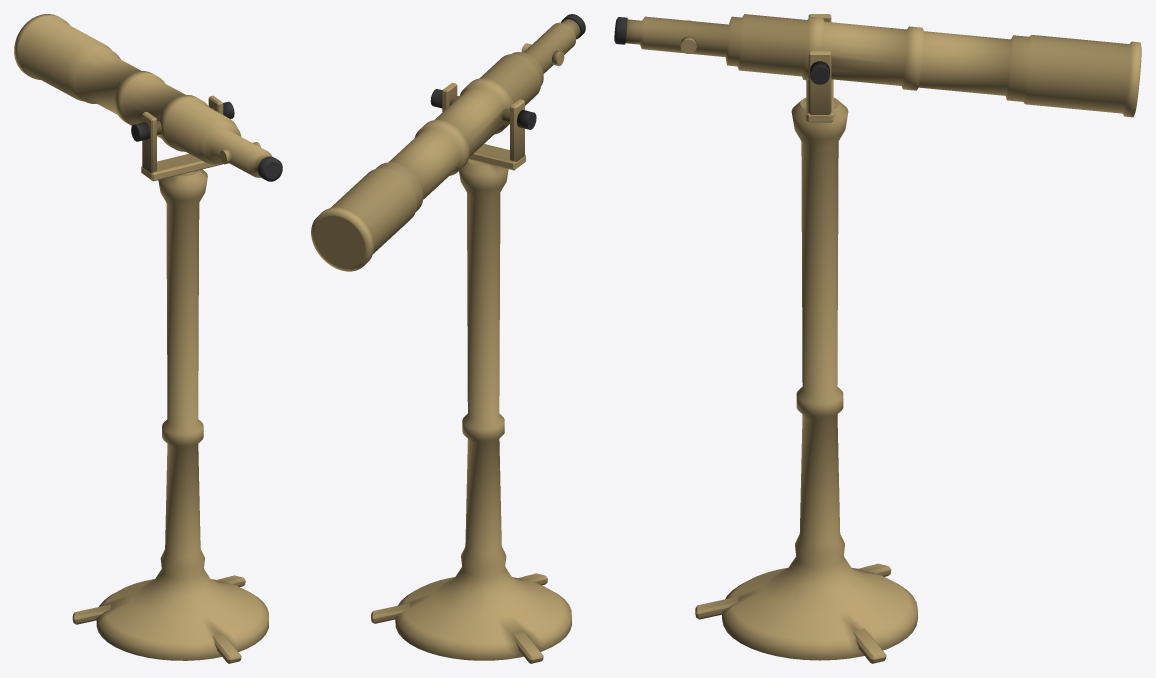
The model's file is telescope.glb.
3 renders of one model, left to right at view 1: azimuth 30°, elevation 25°; view 2: azimuth 150°, elevation 25°; view 3: azimuth 270°, elevation 25°, orthographic. The views are drawn at different scales.
Visible parts, largest first — view 1: brass, iron; view 2: brass, iron; view 3: brass.
Part boxes in pixels (<box>): brass: <box>14,14,272,663</box>; iron: <box>131,101,282,181</box>; brass: <box>311,19,580,663</box>; iron: <box>430,14,585,129</box>; brass: <box>625,14,1141,663</box>.
Size of the model in its own units: 0.4884 by 1.46 by 1.16.
